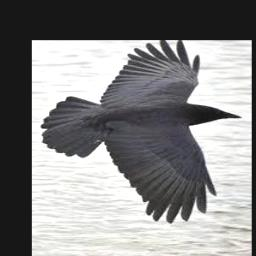Crow: (40, 40, 241, 223)
